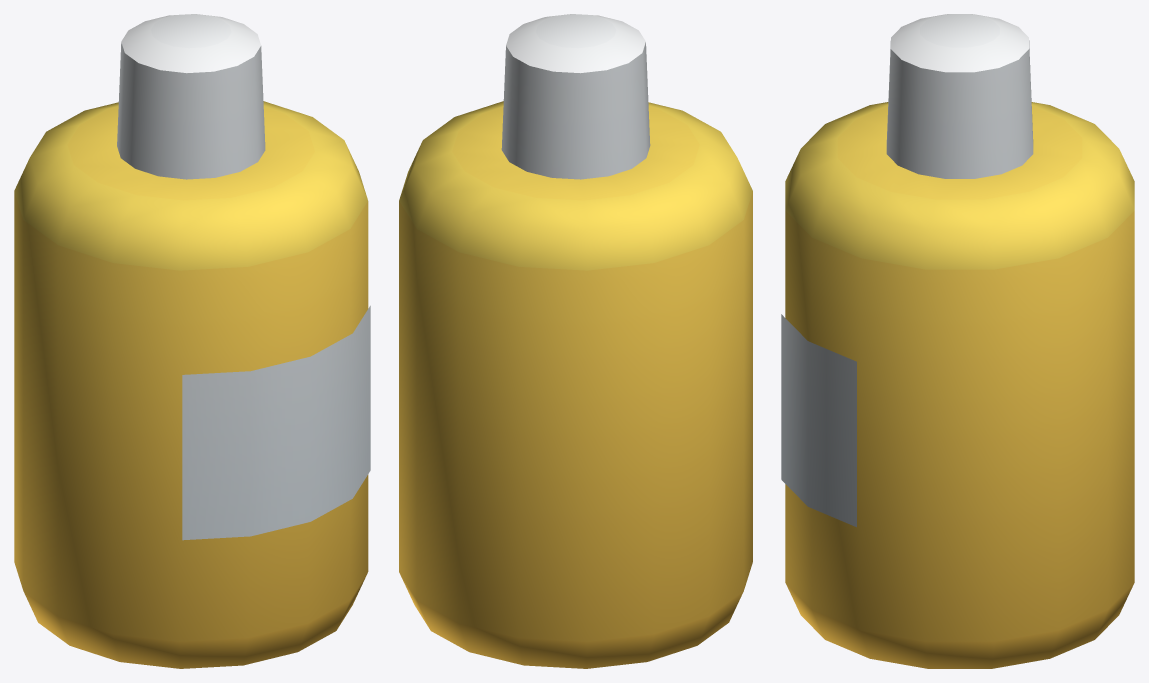
File: Container Bathroom A-II0VEKf1mK.glb
The picture shows the model from 3 angles, left to right: view 1: azimuth 30°, elevation 25°; view 2: azimuth 150°, elevation 25°; view 3: azimuth 270°, elevation 25°; orthographic projection.
Parts seen in each view (by area): view 1: container_bathroom_A_yellow; view 2: container_bathroom_A_yellow; view 3: container_bathroom_A_yellow.
Boxes of the visible parts, left/top/right/bottom form: container_bathroom_A_yellow: left=14, top=14, right=370, bottom=668; container_bathroom_A_yellow: left=399, top=14, right=752, bottom=668; container_bathroom_A_yellow: left=781, top=14, right=1134, bottom=668.
Bounding box in the file's own units: 0.312 × 0.5778 × 0.3162.
1 material, 1 textured.
